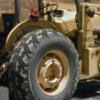Tractor: (5, 10, 90, 97)
